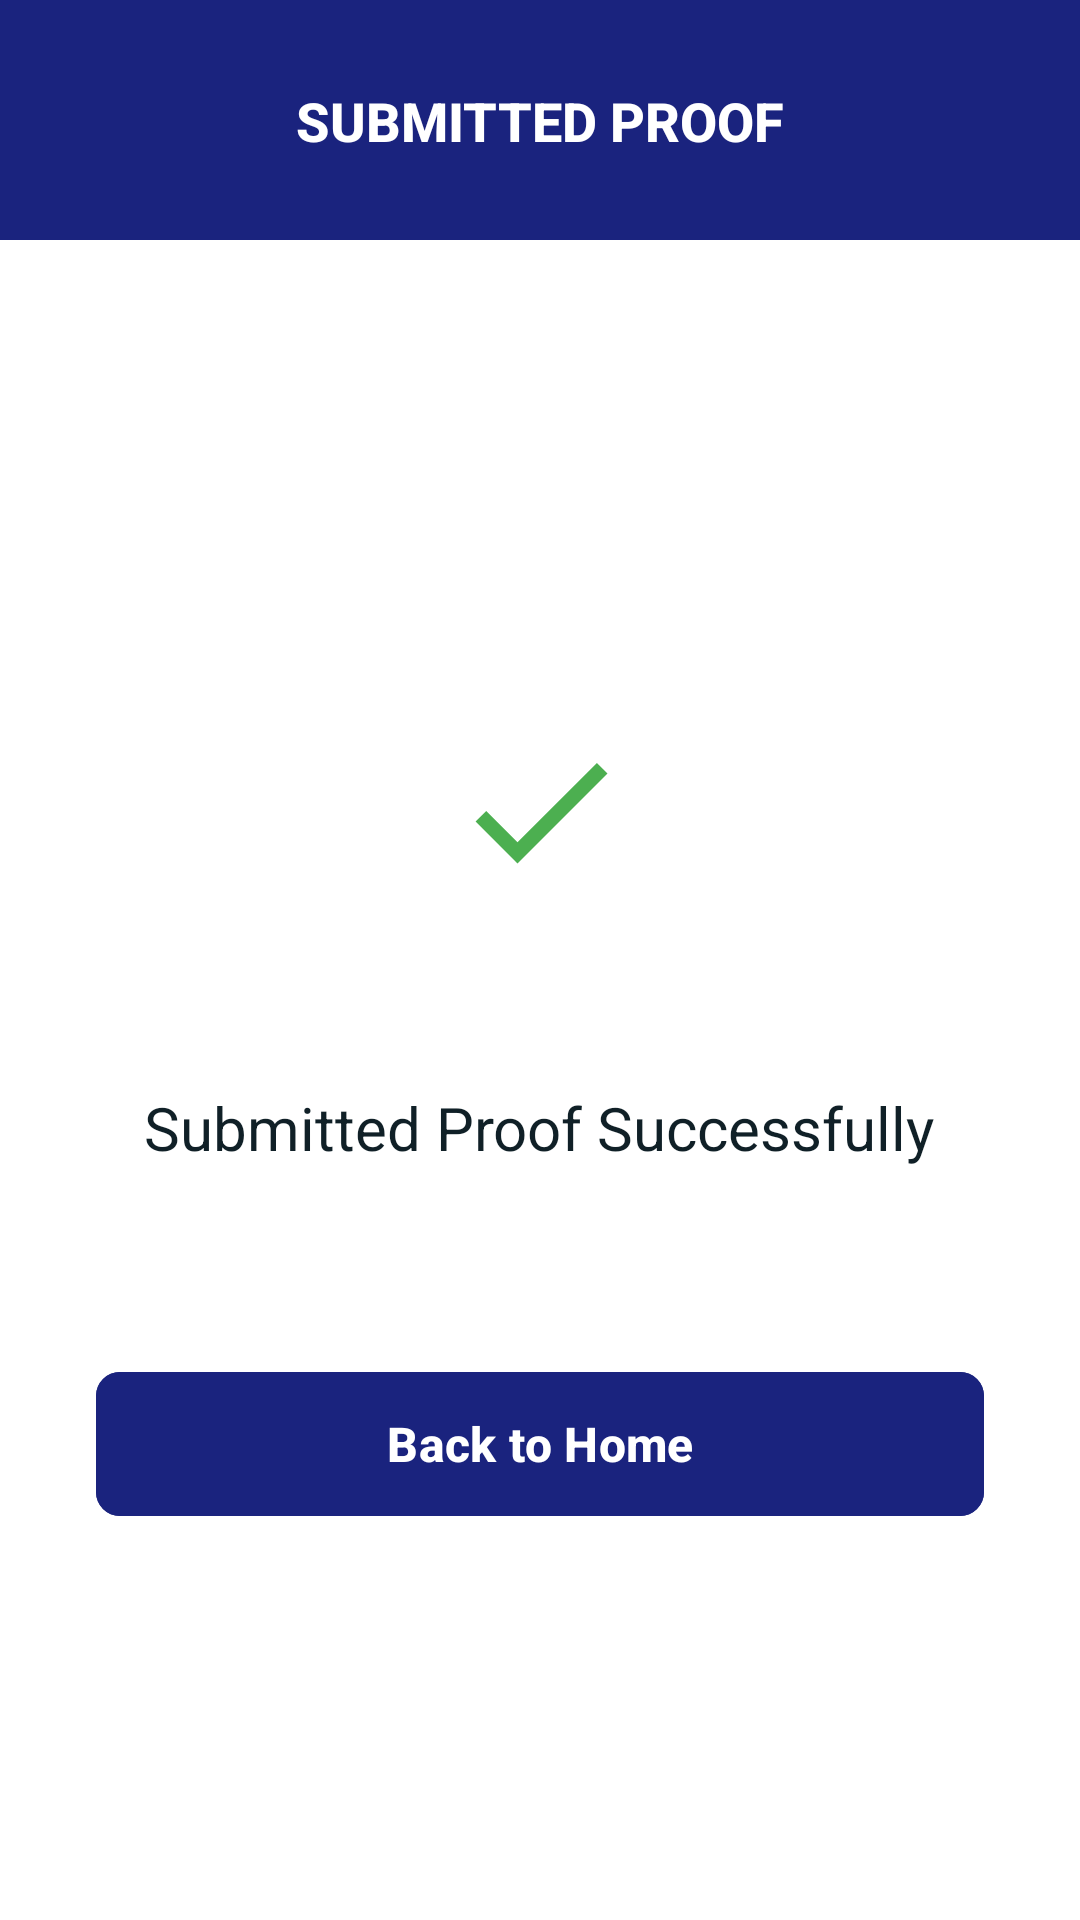

Screen size 1080 × 1920. Icon name, then its center in pixels as (x,y):
check: (541,813)
